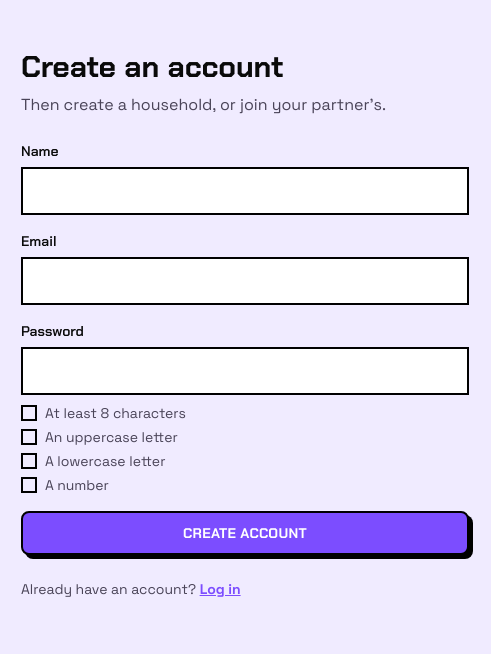
a duplicate email › shows a real message rather than the generic fallback
Type "Alex" into the field labelled "Name" at (245, 191), box x1=21 y1=167 x2=469 y2=215
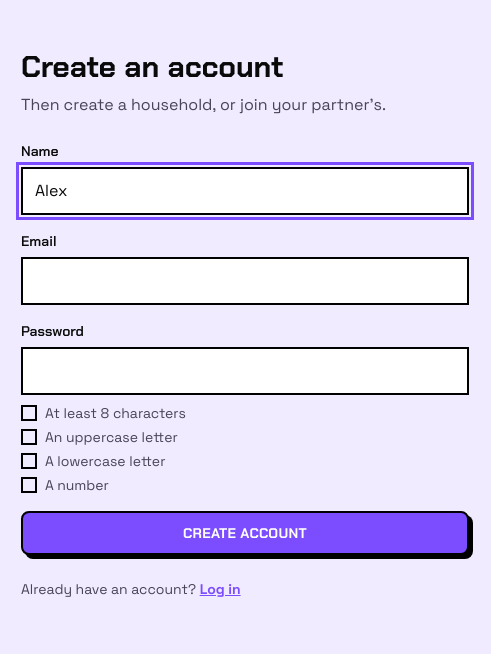
Type "alex@example.com" into the field labelled "Email" at (245, 281), box x1=21 y1=257 x2=469 y2=305
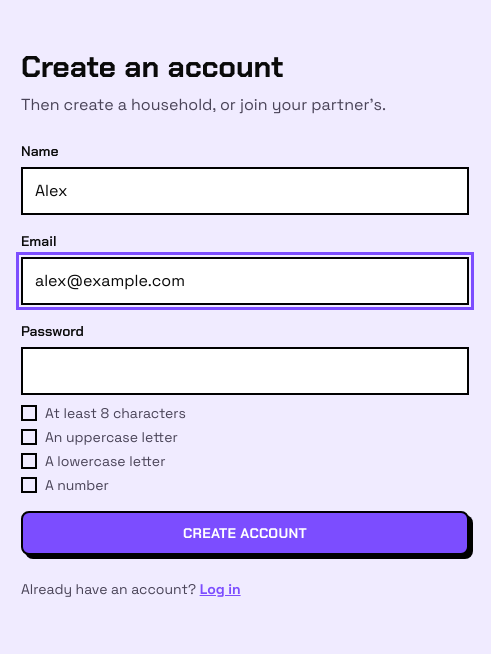
Type "Passw0rd!23" into the password field labelled "Password" at (245, 371), box x1=21 y1=347 x2=469 y2=395
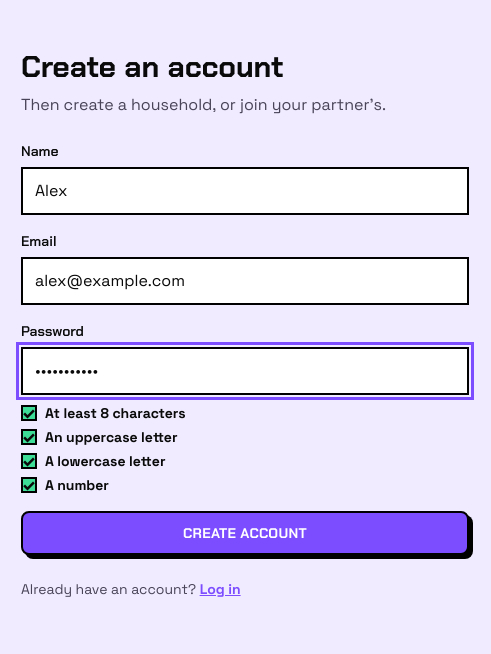
Click the button "Create account" at (245, 533), box x1=21 y1=511 x2=469 y2=555
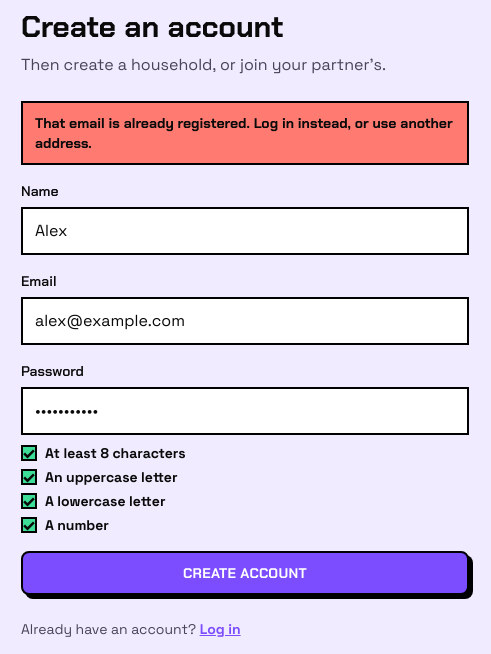
Expected: the message does not show "something went wrong", x1=21 y1=101 x2=469 y2=165
Expected: the message shows "already registered", x1=35 y1=114 x2=453 y2=152
